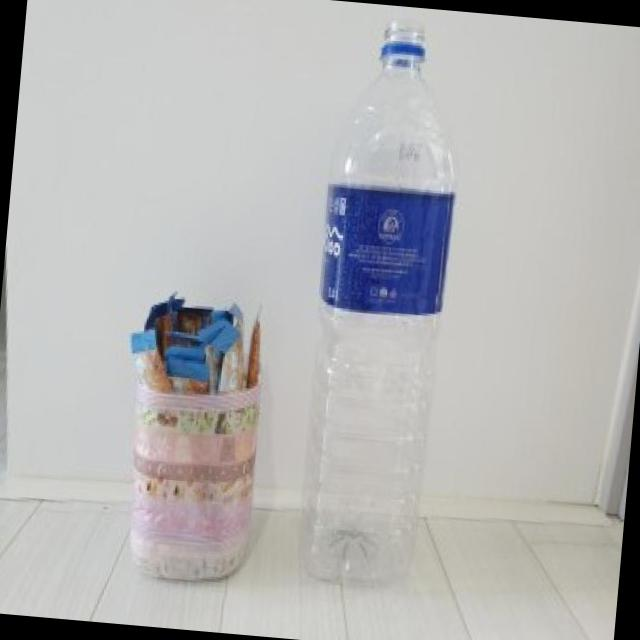plastic_bottle: (293, 16, 472, 592)
